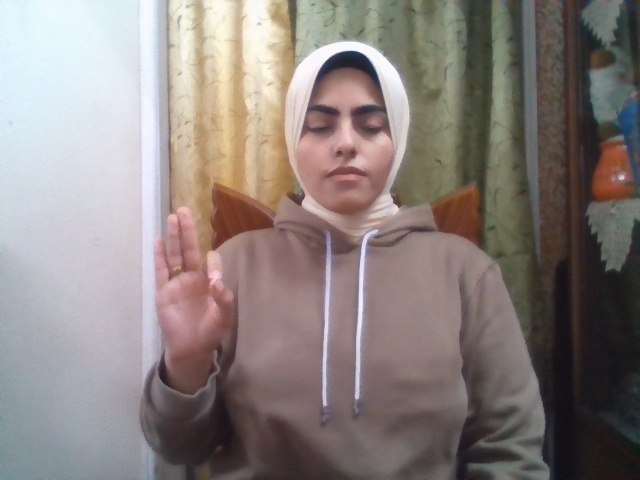F: (153, 207, 235, 363)
